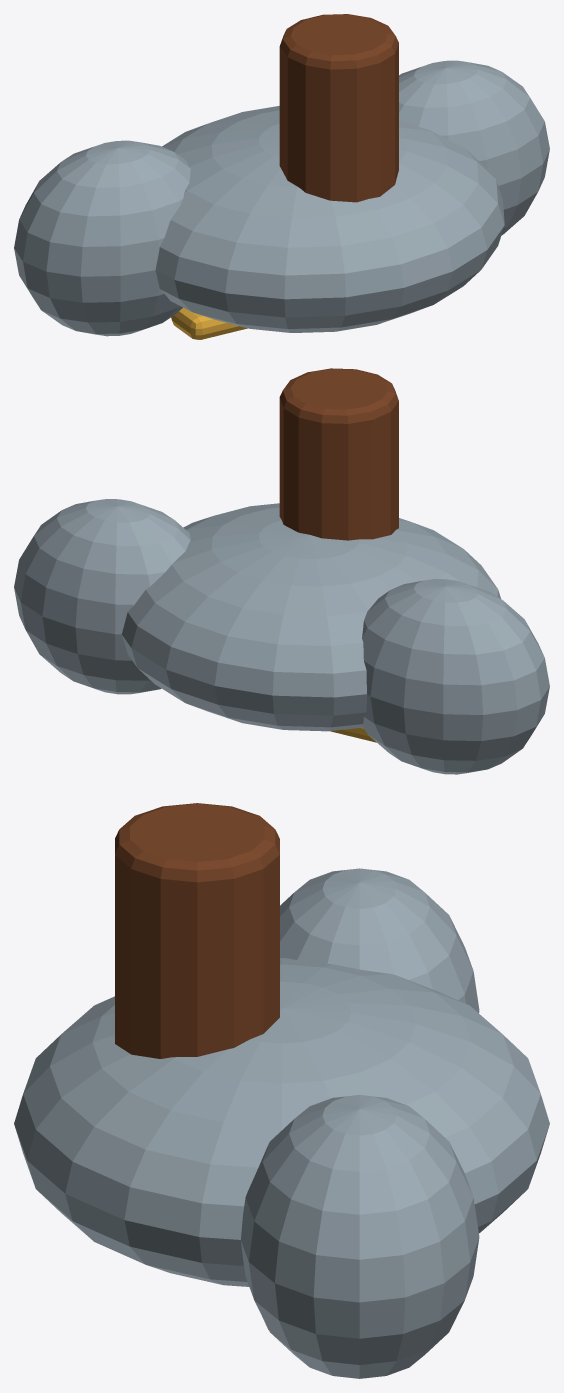
File: armor_bundle.glb
The picture shows the model from 3 angles, top to bottom: view 1: azimuth 30°, elevation 25°; view 2: azimuth 150°, elevation 25°; view 3: azimuth 270°, elevation 25°; orthographic projection. The views are drawn at different scales.
Visible parts, largest first — view 1: Breastplate, Pauldron, Leather_Strap, Pauldron.001, Chest_Ridge; view 2: Breastplate, Pauldron, Pauldron.001, Leather_Strap; view 3: Breastplate, Pauldron.001, Leather_Strap, Pauldron.
Boxes of the visible parts, left/top/right/bottom form: Breastplate: left=155, top=106, right=504, bottom=332; Pauldron: left=14, top=140, right=190, bottom=336; Leather_Strap: left=279, top=14, right=398, bottom=202; Pauldron.001: left=399, top=60, right=549, bottom=235; Chest_Ridge: left=171, top=307, right=247, bottom=339; Breastplate: left=121, top=503, right=500, bottom=731; Pauldron: left=362, top=579, right=549, bottom=774; Pauldron.001: left=14, top=499, right=190, bottom=694; Leather_Strap: left=279, top=368, right=398, bottom=540; Breastplate: left=14, top=958, right=549, bottom=1286; Pauldron.001: left=241, top=1095, right=479, bottom=1378; Leather_Strap: left=115, top=803, right=279, bottom=1058; Pauldron: left=280, top=868, right=479, bottom=1012.
Size of the model in its own units: 1.2 by 0.66 by 0.76.
